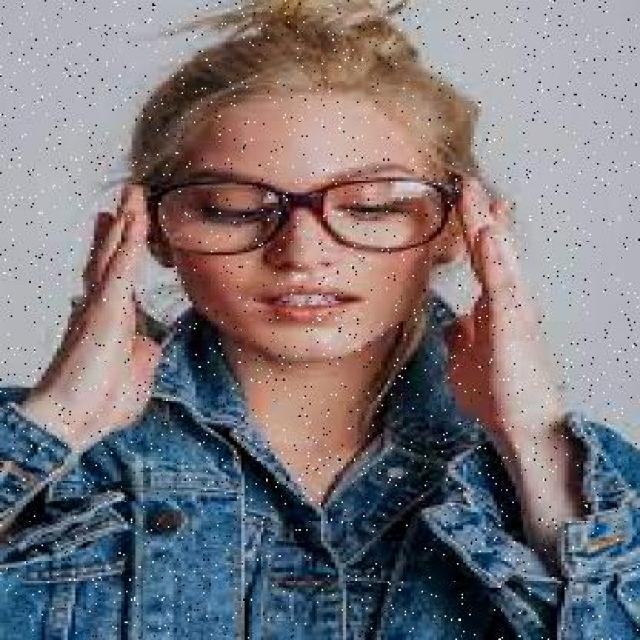glasses: (124, 172, 482, 255)
